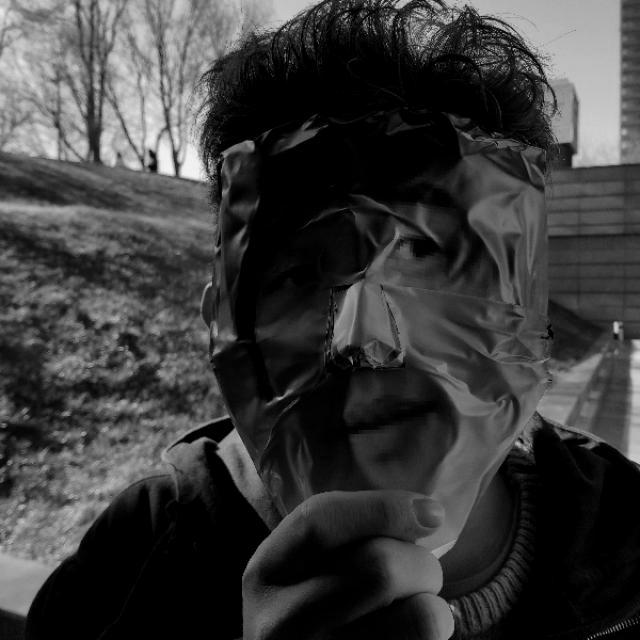fake: (199, 20, 568, 506)
